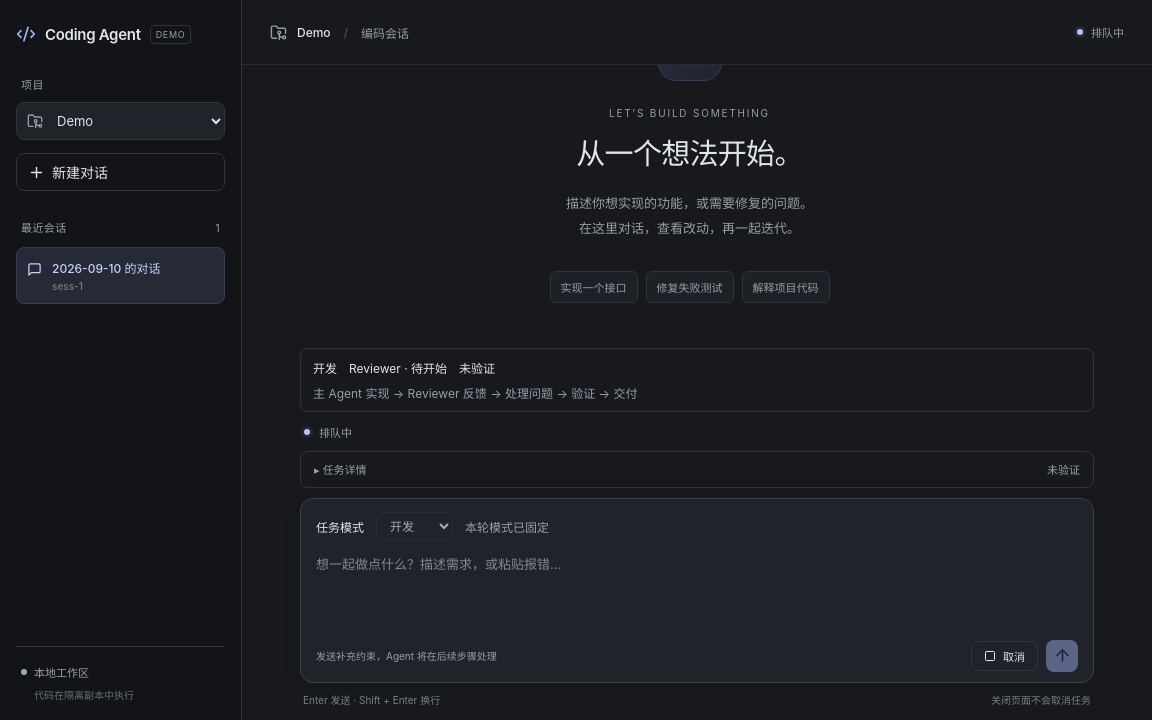
Test: chat MVP › appends to an active task and does not create a second run
The width and height of the screenshot is (1152, 720).
(page scrolled)
Expected: the button "取消" is shown, 971,640 -> 1038,670
Type "保留现有接口" into the text box named "任务需求" at (697, 590), box 316,552 -> 1078,628
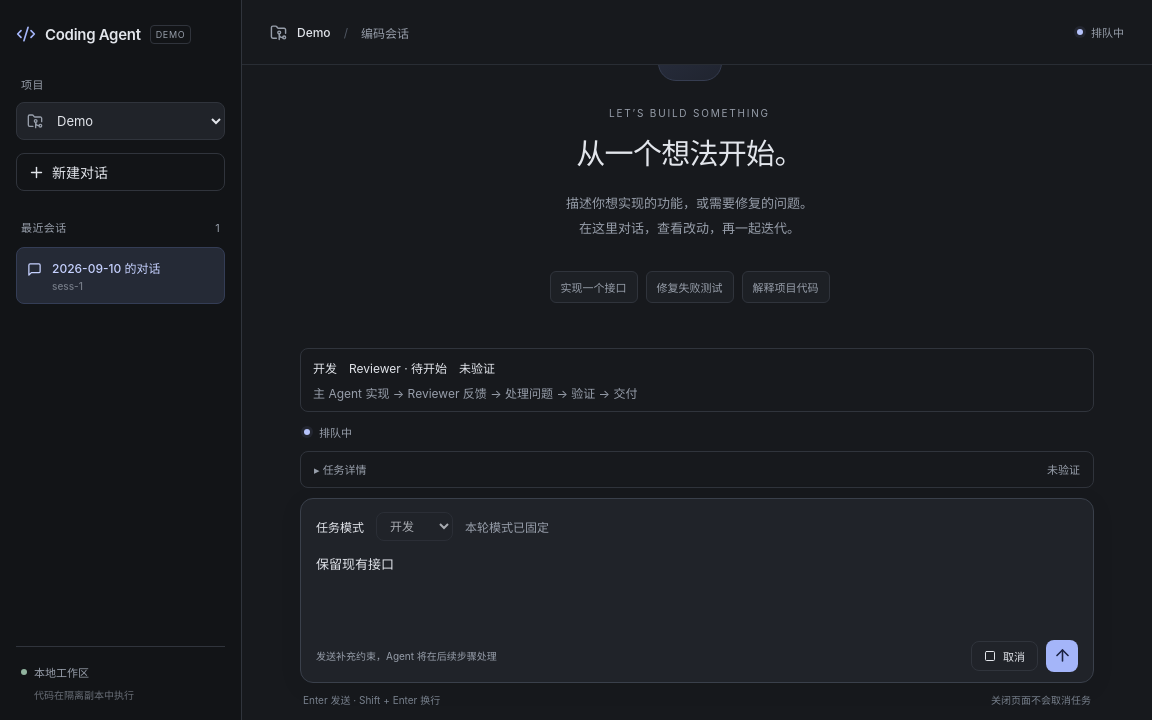
Click the button named "发送" at (1062, 656), box 1046,640 -> 1078,672
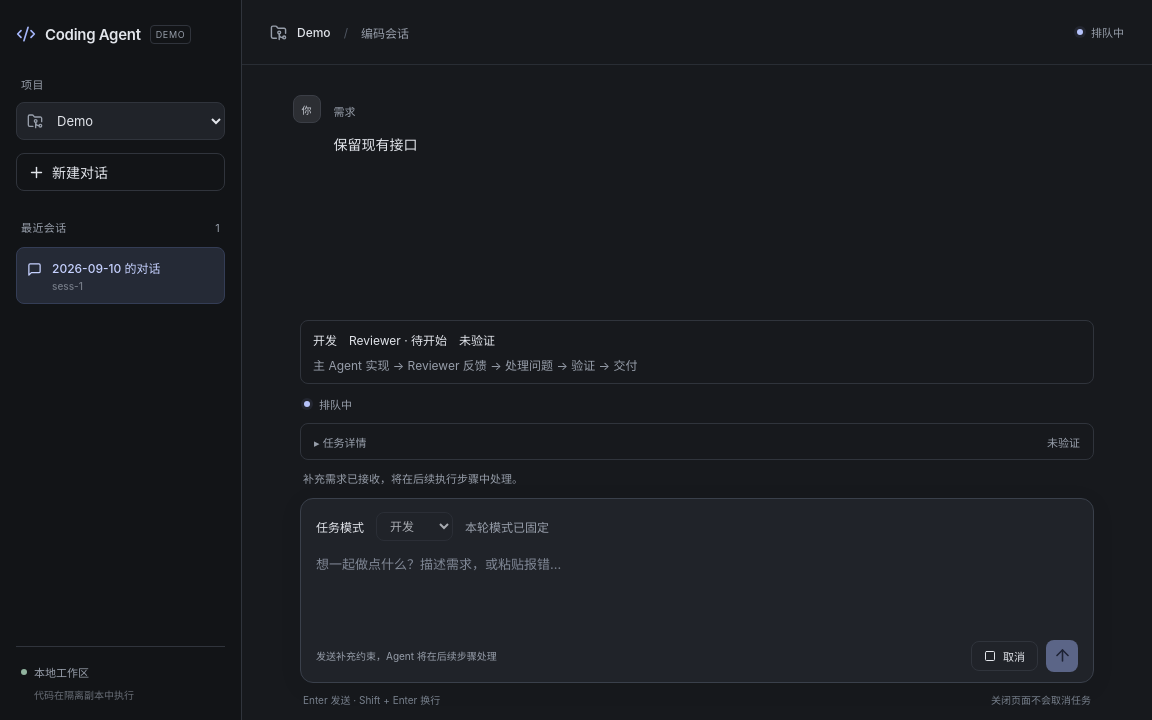
Expected: the text box named "任务需求" is empty, 316,552 -> 1078,628
Expected: the text "保留现有接口" is shown, 334,136 -> 418,153
